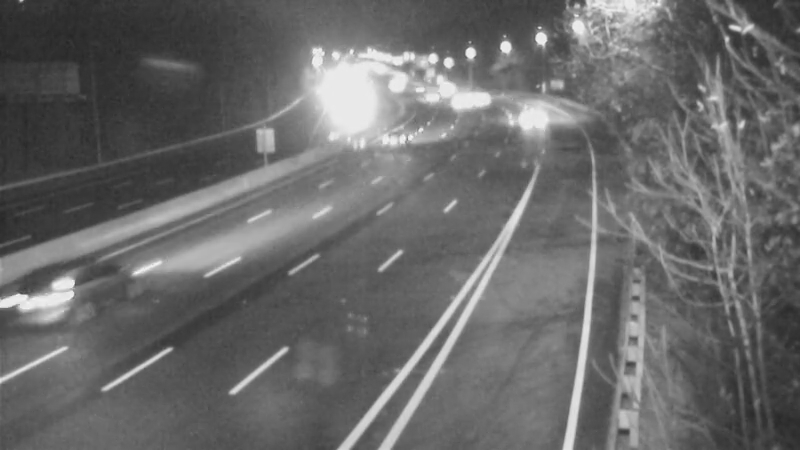vehicle: (19, 251, 99, 331), (419, 61, 469, 111), (394, 63, 444, 113), (406, 71, 456, 121), (434, 74, 484, 124), (456, 71, 506, 121), (503, 92, 553, 142), (374, 112, 424, 162)
